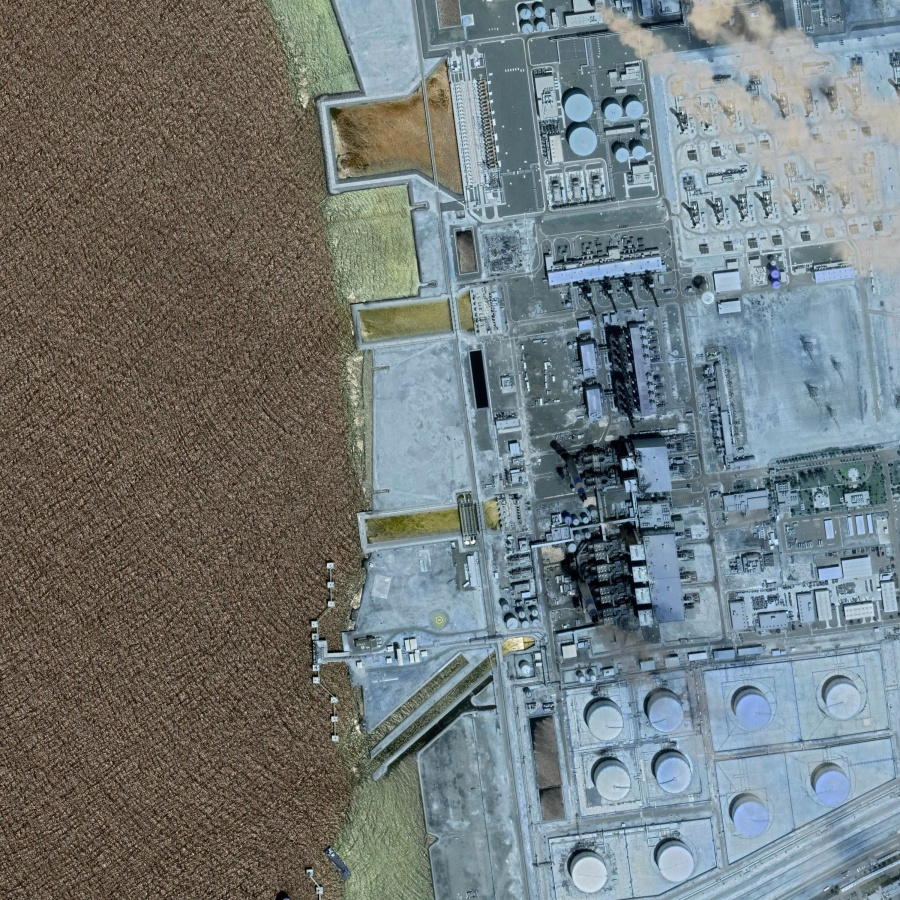PowerPlant: (497, 312, 719, 628)
